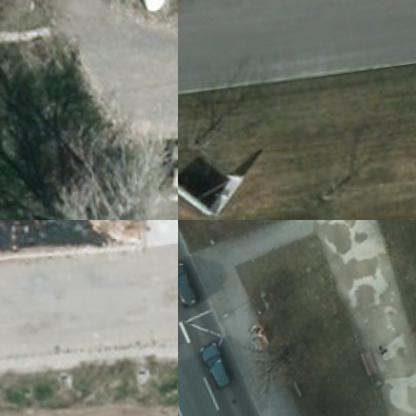car: (194, 337, 232, 389), (153, 134, 177, 204), (178, 254, 197, 309), (116, 0, 166, 16)
